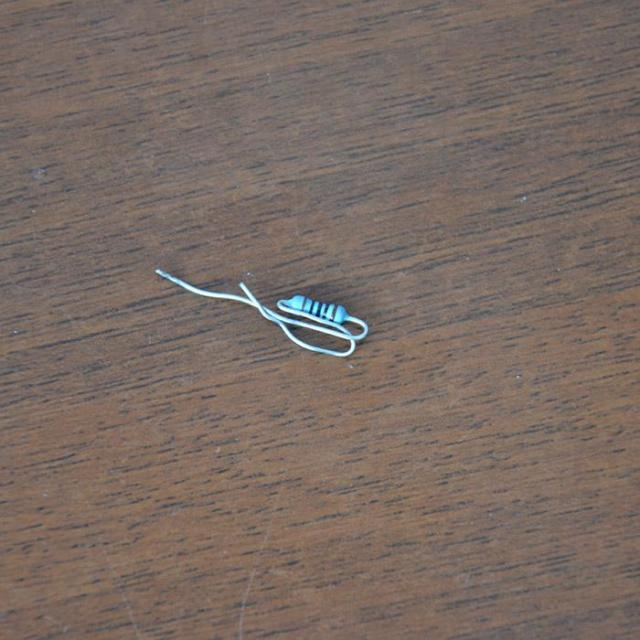Capacitor Electrolitico: (288, 292, 349, 328)
